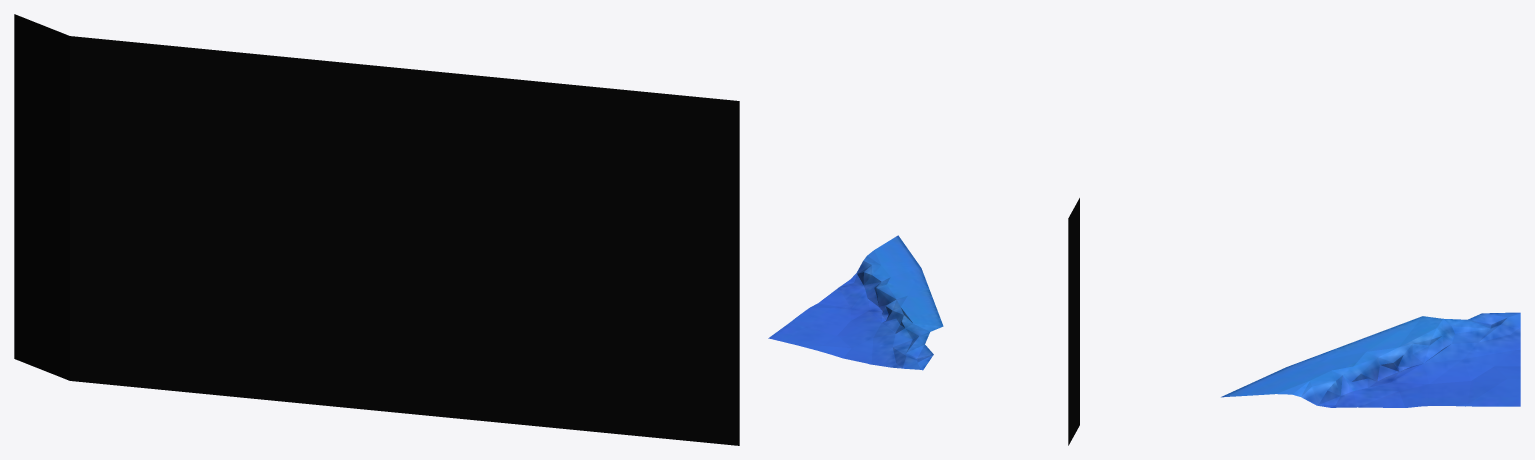
3 views of the same model, side by side, from view 1: azimuth 30°, elevation 25°; view 2: azimuth 150°, elevation 25°; view 3: azimuth 270°, elevation 25° (orthographic). The views are drawn at different scales.
Bounding box in the file's own units: 12.42 × 9 × 12.8.
2 materials, 2 textured.
